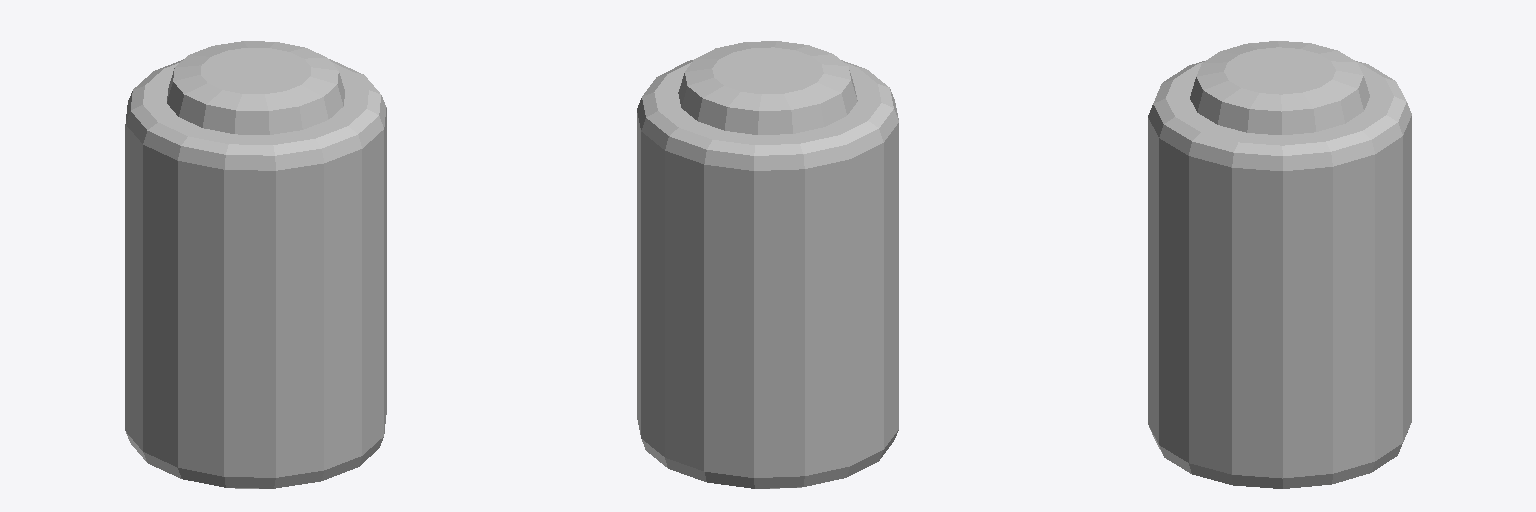
File: Bateria.obj
The picture shows the model from 3 angles: view 1: azimuth 30°, elevation 25°; view 2: azimuth 150°, elevation 25°; view 3: azimuth 270°, elevation 25°; orthographic projection.
Parts seen in each view (by area): view 1: Cube.045; view 2: Cube.045; view 3: Cube.045.
Boxes of the visible parts, x1=… form: Cube.045: x1=125, y1=41, x2=386, y2=488; Cube.045: x1=637, y1=41, x2=898, y2=488; Cube.045: x1=1148, y1=41, x2=1411, y2=488.
Size of the model in its own units: 0.6156 by 0.9519 by 0.6156.